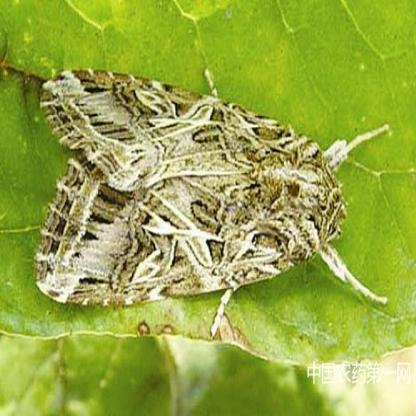armyworm: (33, 61, 392, 340)
